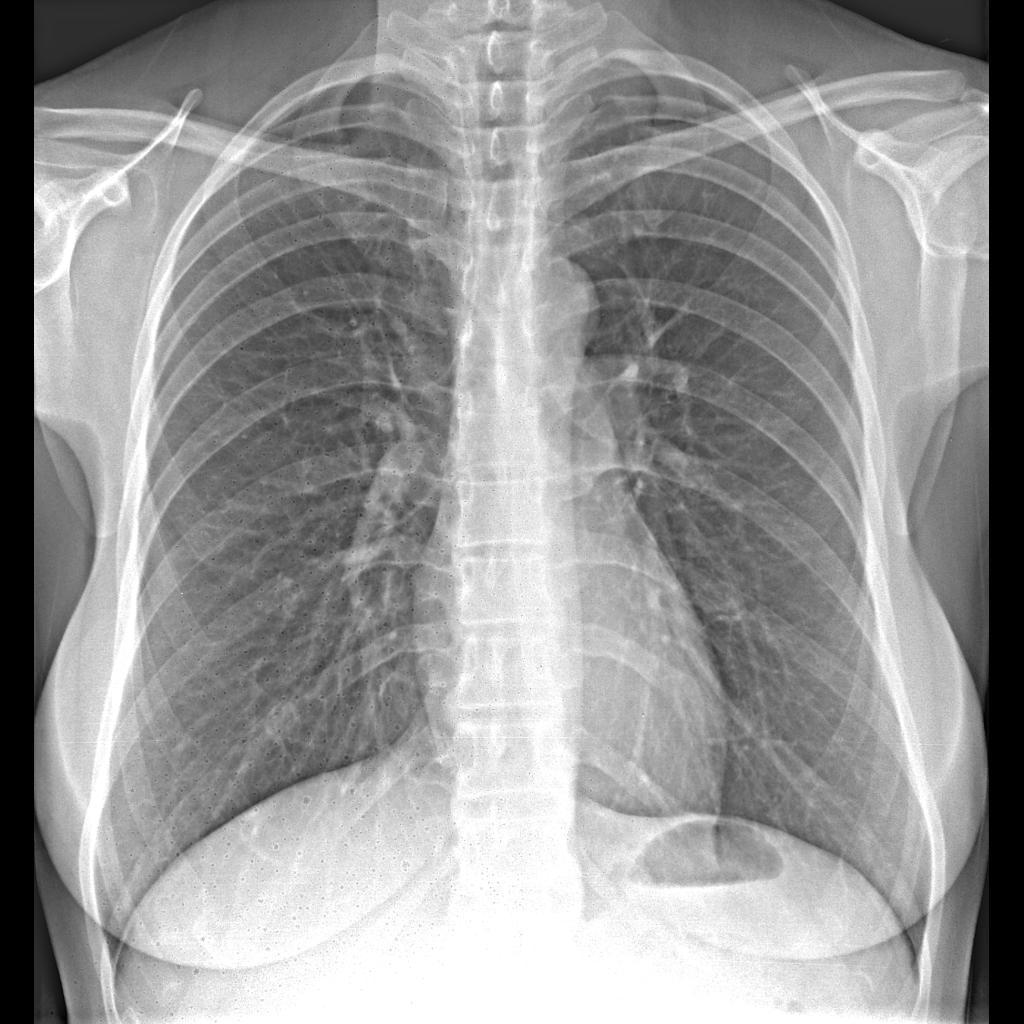Nodule: (254, 684, 304, 757)
